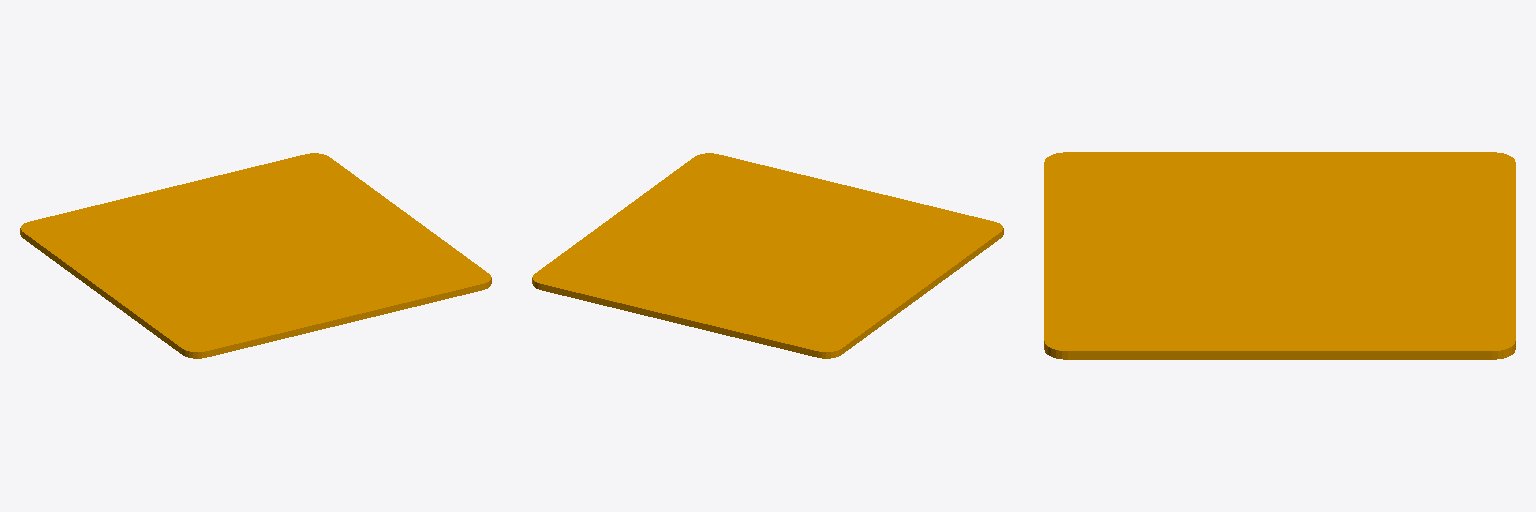
robot.urdf — plate:
<?xml version="1.0" encoding="utf-8"?>

<robot name="plate">

  <link name="boundary_link">
    <visual>
      <origin rpy="0 0 0" xyz="0 0 0"/>
      <geometry>
        <mesh filename="./mesh/plate-20cm.obj" scale="0.001 0.001 0.001"/>
      </geometry>
      <material name="stage_material"/>
    </visual>

    <collision>
      <origin rpy="0 0 0" xyz="0 0 0"/>
      <geometry>
        <mesh filename="./mesh/plate-20cm.obj" scale="0.001 0.001 0.001"/>
      </geometry>
    </collision>

    <inertial>
      <origin rpy="0 0 0" xyz="0 0 0"/>
      <mass value="1"/>
      <inertia ixx="0.00770833333333" ixy="0" ixz="0" iyy="0.00770833333333" iyz="0" izz="0.015"/>
    </inertial>
  </link>
</robot>

--- What the picture shows (computed from the rendered views, not written in the file) ---
3 views of the same robot in one strip: view 1: azimuth 30°, elevation 25°; view 2: azimuth 150°, elevation 25°; view 3: azimuth 270°, elevation 25° (orthographic).
Robot: plate — 1 links, 0 joints (none); root link boundary_link; default pose: every joint at zero.
Visible links, largest first — view 1: boundary_link; view 2: boundary_link; view 3: boundary_link.
Boxes of the visible links, <box> form: boundary_link: <box>20,153,491,358</box>; boundary_link: <box>532,153,1003,358</box>; boundary_link: <box>1044,152,1515,359</box>.
Bounding box of the posed robot: 0.25 × 0.25 × 0.005 m (x, y, z).
Meshes: 1 distinct files referenced, 1 mesh visuals loaded (1 OBJ).